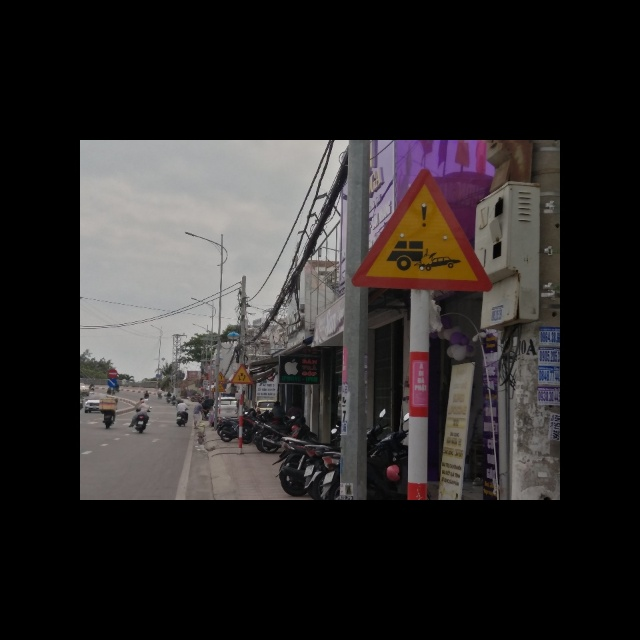Đoạn đường hay xảy ra tai nạn: (350, 168, 495, 290)
Đường đôi: (229, 363, 252, 384)
